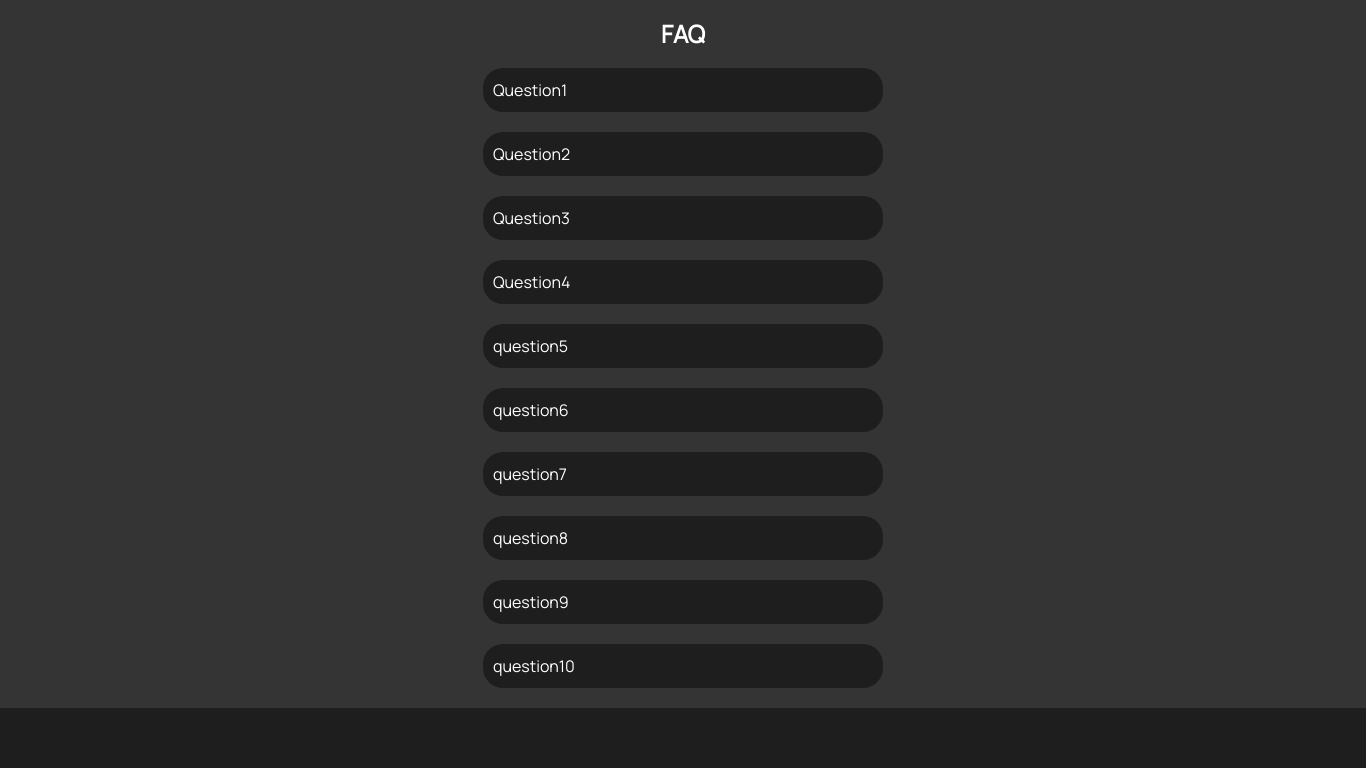
Test: FAQ › renders FAQ component with questions and answers
Expected: the heading "FAQ" is shown, [661, 17, 705, 50]
Click the text "Question1". click: coordinates (683, 90)
box: [483, 68, 883, 112]
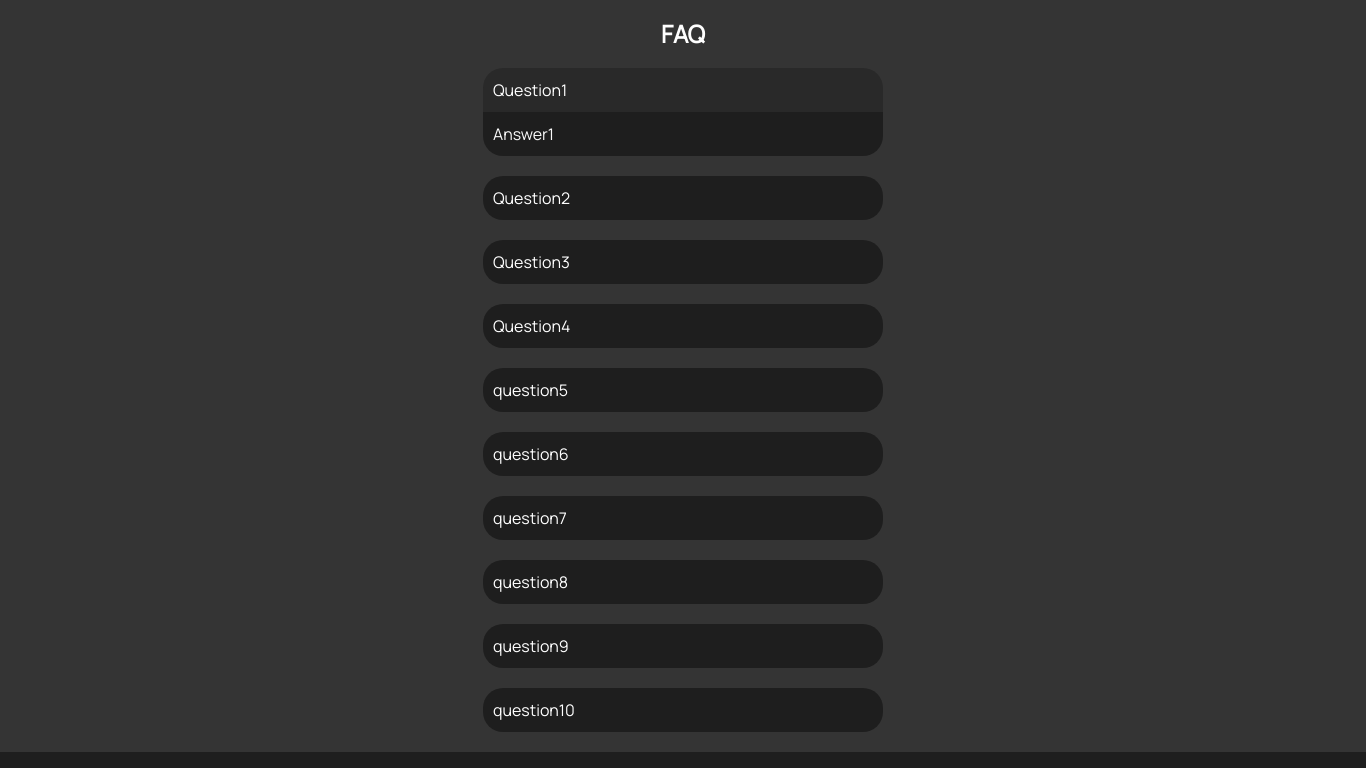
Result: the text "Answer1" is shown at [493, 123, 554, 145]
Click the text "Question2". click: coordinates (683, 198)
box: [483, 176, 883, 220]
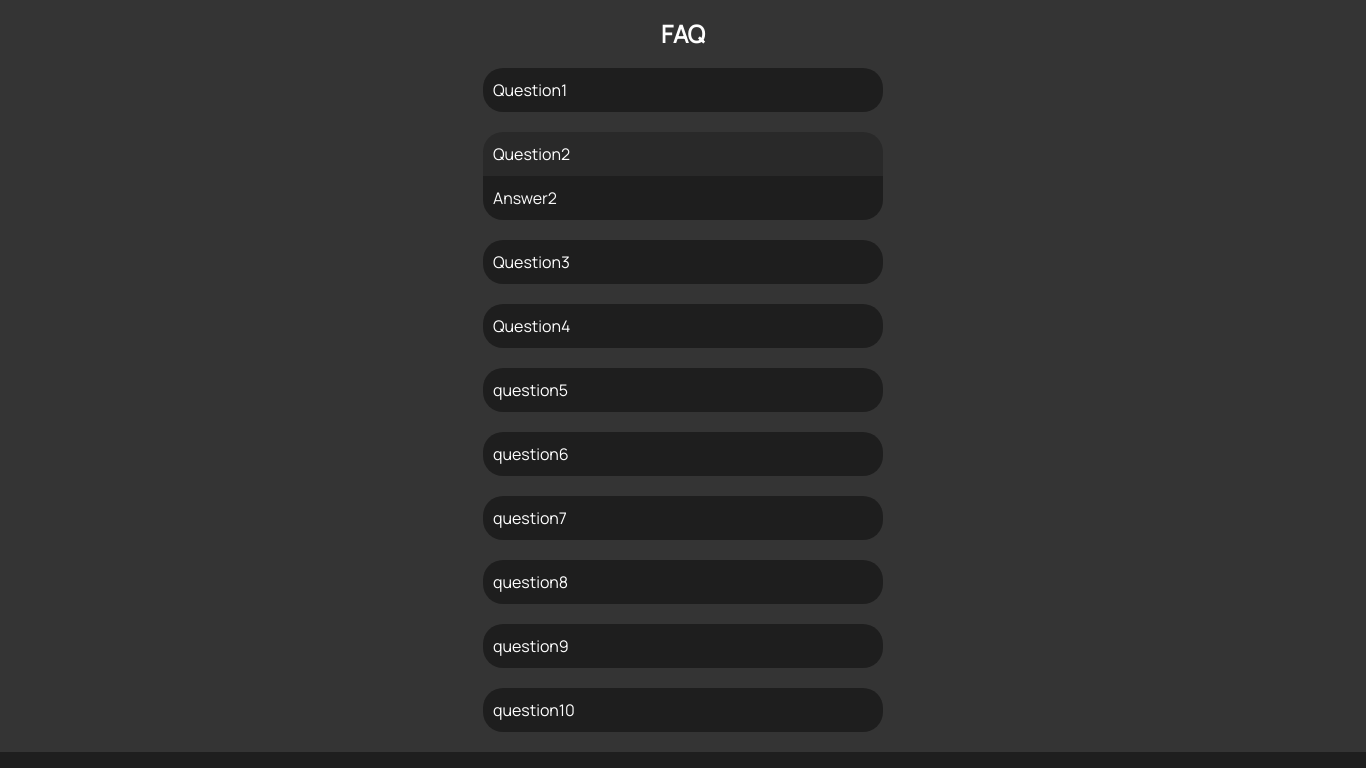
Result: the text "Answer2" is shown at [493, 187, 557, 209]
Click the text "Question3". click: coordinates (683, 262)
box: [483, 240, 883, 284]
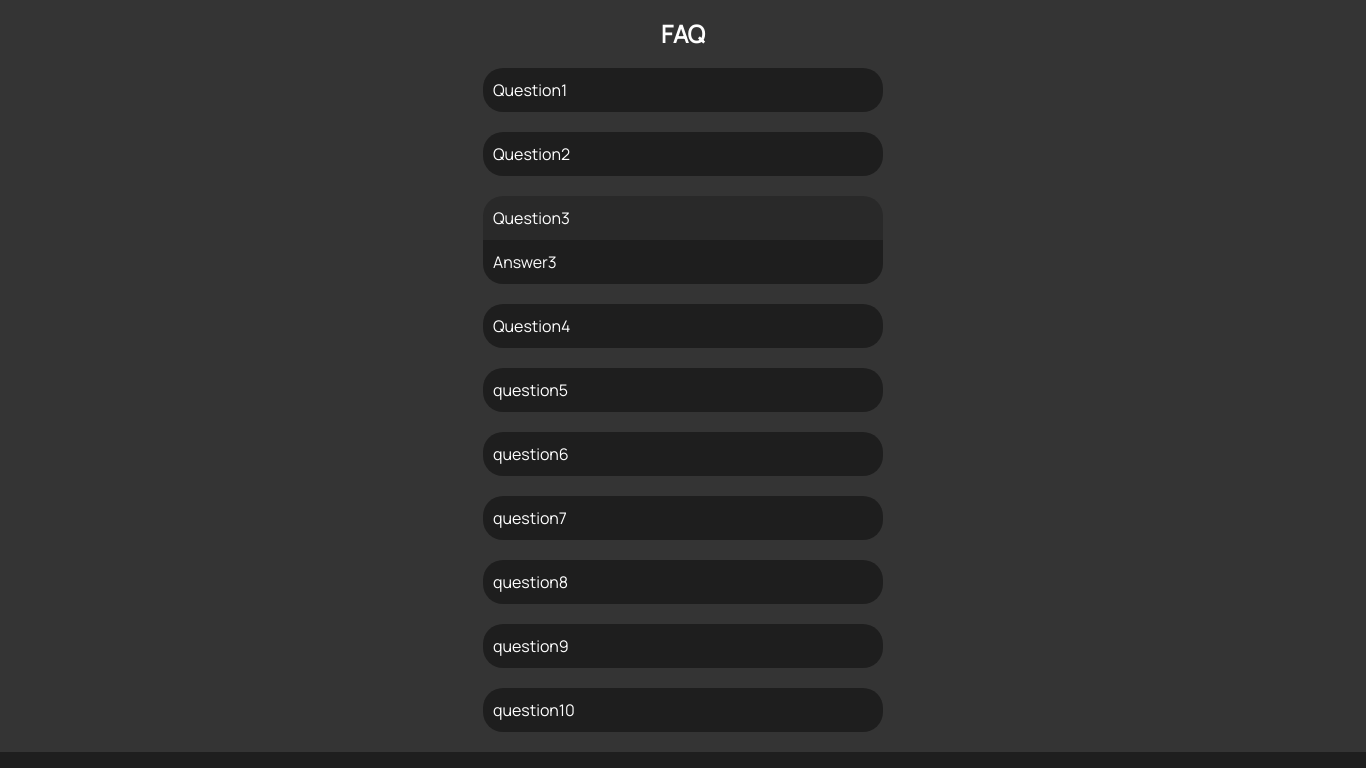
Result: the text "Answer3" is shown at [493, 251, 557, 273]
Click the text "Question4". click: coordinates (683, 326)
box: [483, 304, 883, 348]
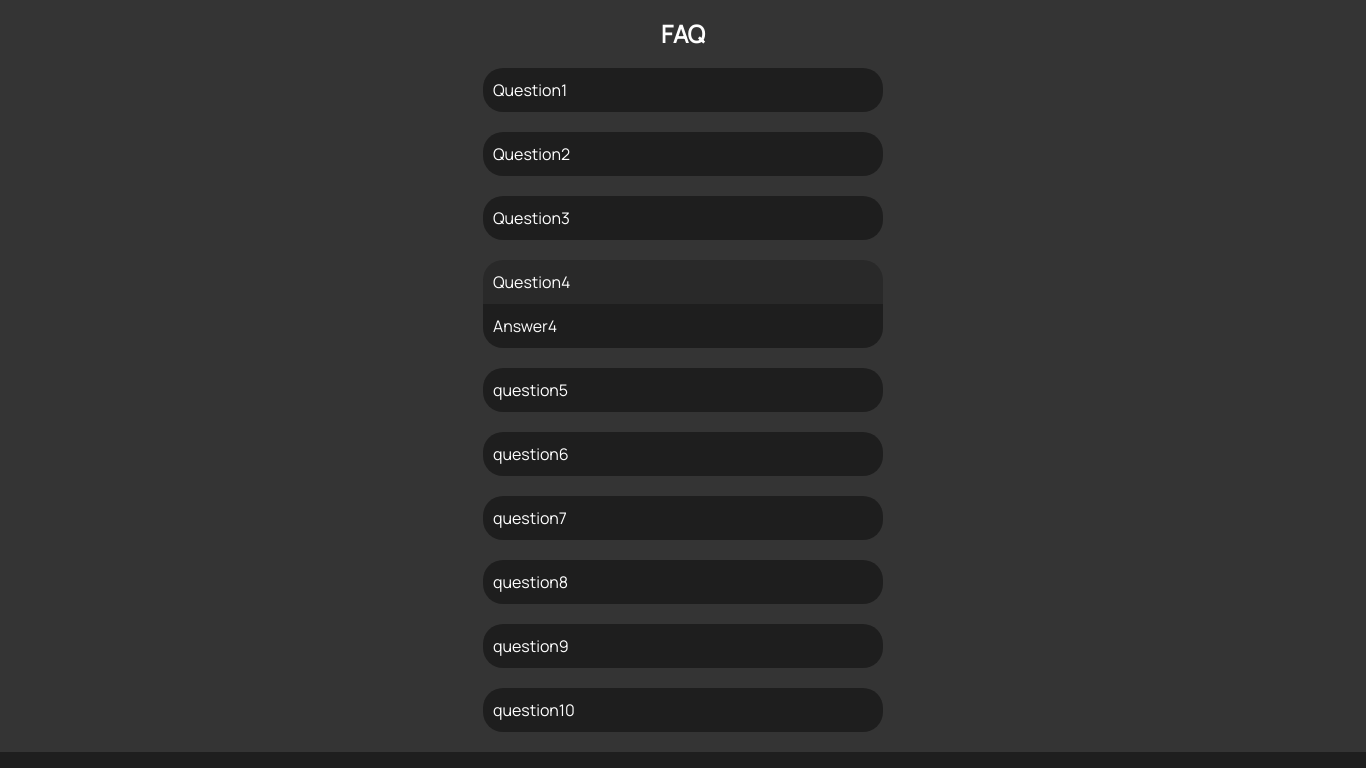
Result: the text "Answer4" is shown at [493, 315, 557, 337]
